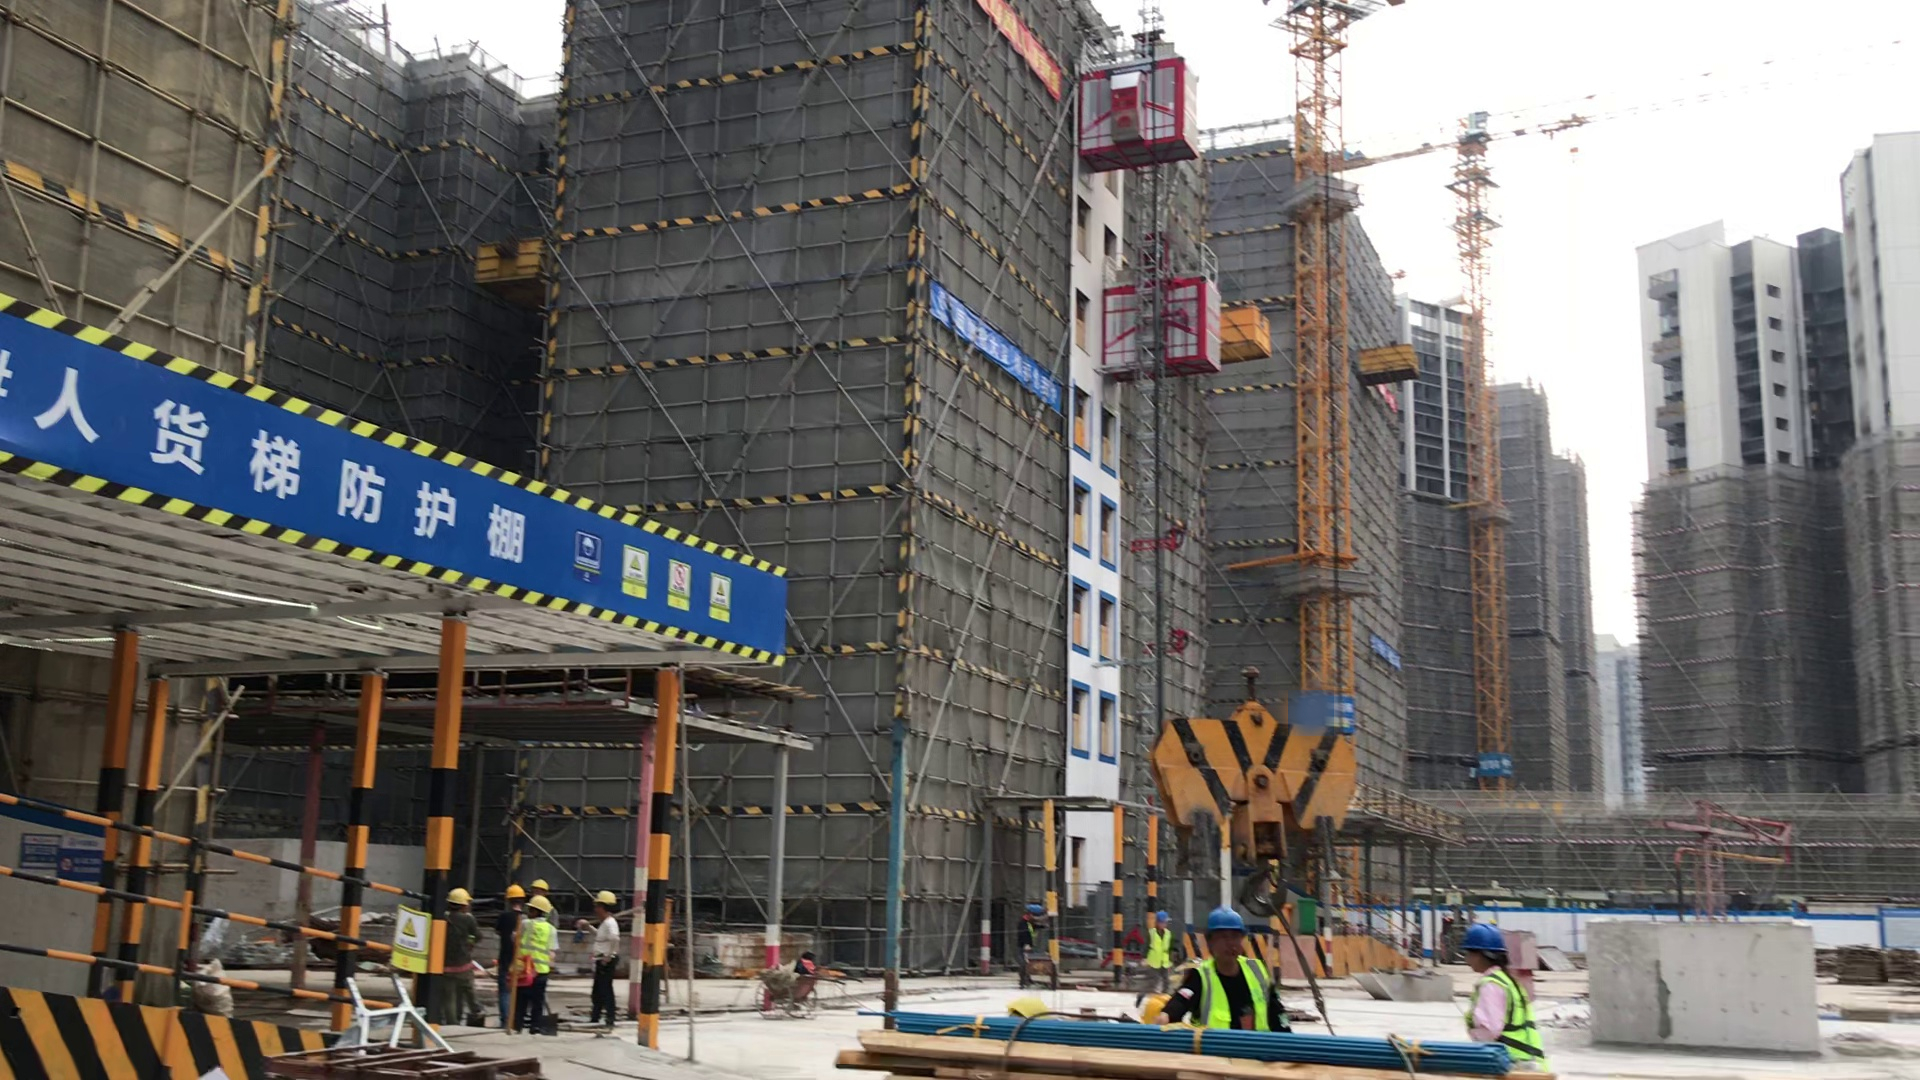handcart: (753, 962, 853, 1016), (1017, 947, 1058, 988)
helmet: (1454, 920, 1519, 957), (1198, 904, 1256, 935), (446, 887, 471, 911), (529, 895, 553, 915), (593, 892, 615, 911), (504, 884, 528, 899), (530, 878, 552, 892)
hook: (1165, 648, 1360, 906)
hopper: (1349, 968, 1456, 1004)
person: (1455, 919, 1556, 1077), (1181, 907, 1293, 1044), (505, 877, 558, 1026), (442, 882, 481, 1027), (585, 889, 626, 1029), (1138, 901, 1176, 994)
slogan: (575, 518, 746, 633), (930, 283, 1063, 426), (981, 1, 1064, 98), (389, 894, 427, 976), (1365, 630, 1415, 673), (1468, 750, 1513, 776)
vest: (1469, 973, 1553, 1065), (1195, 961, 1275, 1031), (512, 917, 553, 974), (1149, 927, 1173, 969)
